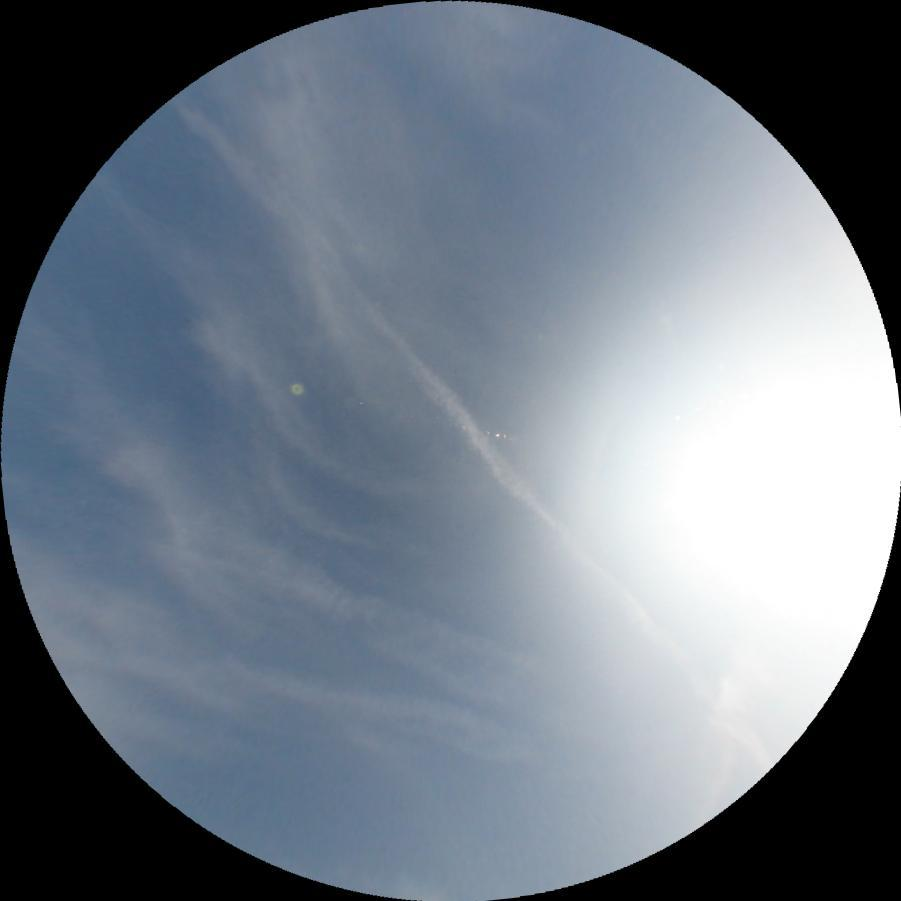contrail veryold: (165, 93, 781, 776), (243, 544, 591, 739), (180, 657, 542, 778)
